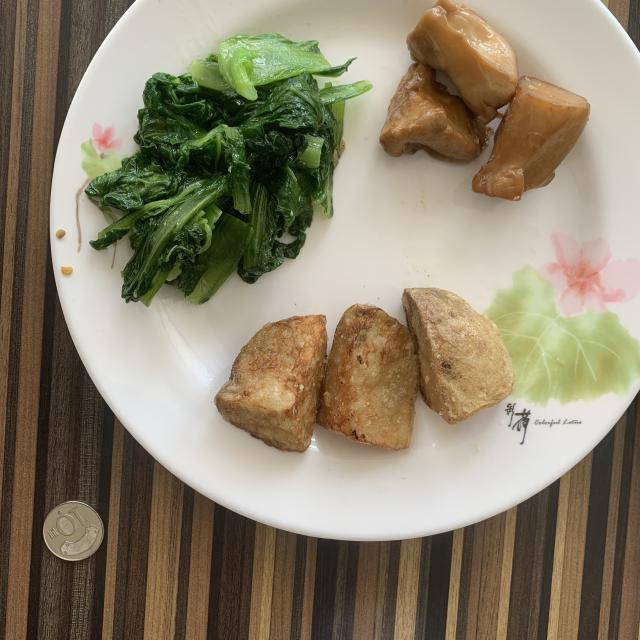coin: (42, 501, 104, 561)
fried potato: (215, 288, 515, 452)
mustard greens: (85, 34, 371, 305)
